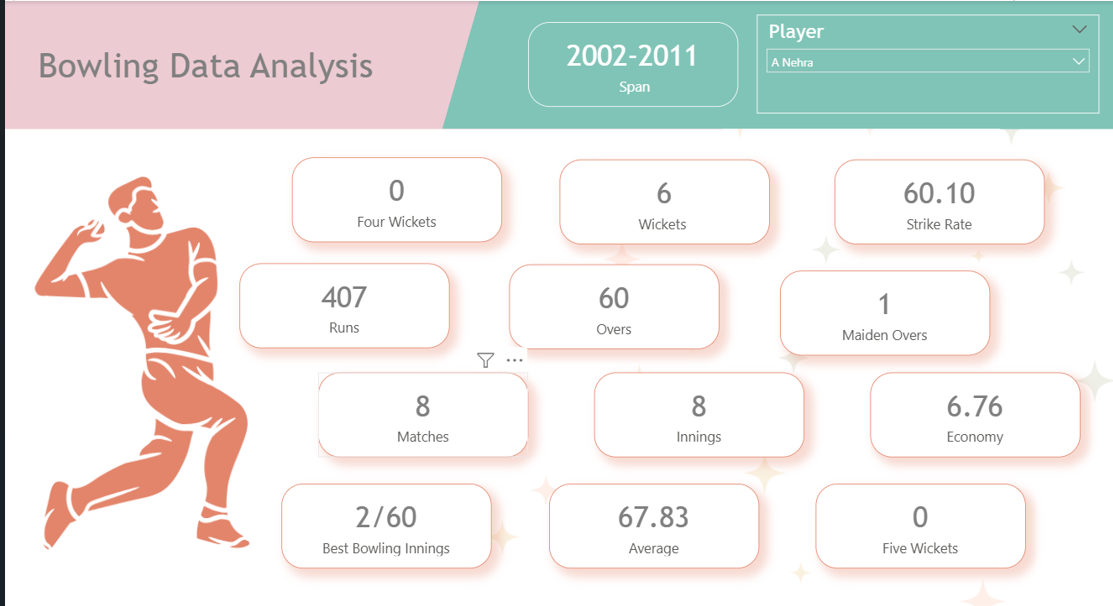

The dashboard page shown, as its layout file describes it:
{"tool":"powerbi","page":{"name":"Bowling","canvas":[1280,720],"ordinal":1},"visuals":[{"type":"shape","box":[0,0,827.4,147.3],"z":0},{"type":"shape","box":[504.3,0,775.7,147.2],"z":1000},{"type":"shape","box":[1146.1,0,133.9,147.3],"z":2000},{"type":"slicer","fields":{"Values":["Batting.Player"]},"box":[866.2,15.7,393.3,113.4],"z":3000},{"type":"card","fields":{"Values":["Min(Bowling.Span)"]},"box":[603.2,24.1,241.3,97.7],"z":4000},{"type":"card","fields":{"Values":["Sum(Bowling.Wkts)"]},"box":[639.4,182.2,241.3,97.7],"z":5000},{"type":"card","fields":{"Values":["Sum(Bowling.SR)"]},"box":[955.5,182.2,241.3,97.7],"z":6000},{"type":"card","fields":{"Values":["Sum(Bowling.Runs)"]},"box":[271.4,301.6,241.3,97.7],"z":7000},{"type":"card","fields":{"Values":["Sum(Bowling.Overs)"]},"box":[582.1,302.8,241.3,97.7],"z":8000},{"type":"card","fields":{"Values":["Sum(Bowling.Mdns)"]},"box":[892.8,310.1,241.3,97.7],"z":9000},{"type":"card","fields":{"Values":["Sum(Bowling.Mat)"]},"box":[361.9,427.1,241.3,97.7],"z":10000},{"type":"card","fields":{"Values":["Sum(Bowling.Inns)"]},"box":[679.2,427.1,241.3,97.7],"z":11000},{"type":"card","fields":{"Values":["Sum(Bowling.Econ)"]},"box":[996.5,427.1,241.3,97.7],"z":12000},{"type":"card","fields":{"Values":["Min(Bowling.BBI)"]},"box":[320.2,555.4,241.3,97.7],"z":13000},{"type":"card","fields":{"Values":["Sum(Bowling.Ave)"]},"box":[627,555,241.3,97.7],"z":14000},{"type":"card","fields":{"Values":["Sum(Bowling.5)"]},"box":[933.8,555,241.3,97.7],"z":15000},{"type":"card","fields":{"Values":["Sum(Bowling.4)"]},"box":[331.8,179.8,241.3,97.7],"z":16000}]}

Visuals, with their boxes on the page's 1280x720 design canvas (x1, y1, x2, y2). These are canvas units, not pixel positions in the 1113x606 screenshot, which may show the page scaled, cropped or inside an application window:
shape: 0,0,827,147
shape: 504,0,1280,147
shape: 1146,0,1280,147
slicer - Batting.Player: 866,16,1260,129
card - Min(Bowling.Span): 603,24,844,122
card - Sum(Bowling.Wkts): 639,182,881,280
card - Sum(Bowling.SR): 956,182,1197,280
card - Sum(Bowling.Runs): 271,302,513,399
card - Sum(Bowling.Overs): 582,303,823,400
card - Sum(Bowling.Mdns): 893,310,1134,408
card - Sum(Bowling.Mat): 362,427,603,525
card - Sum(Bowling.Inns): 679,427,920,525
card - Sum(Bowling.Econ): 996,427,1238,525
card - Min(Bowling.BBI): 320,555,562,653
card - Sum(Bowling.Ave): 627,555,868,653
card - Sum(Bowling.5): 934,555,1175,653
card - Sum(Bowling.4): 332,180,573,278
